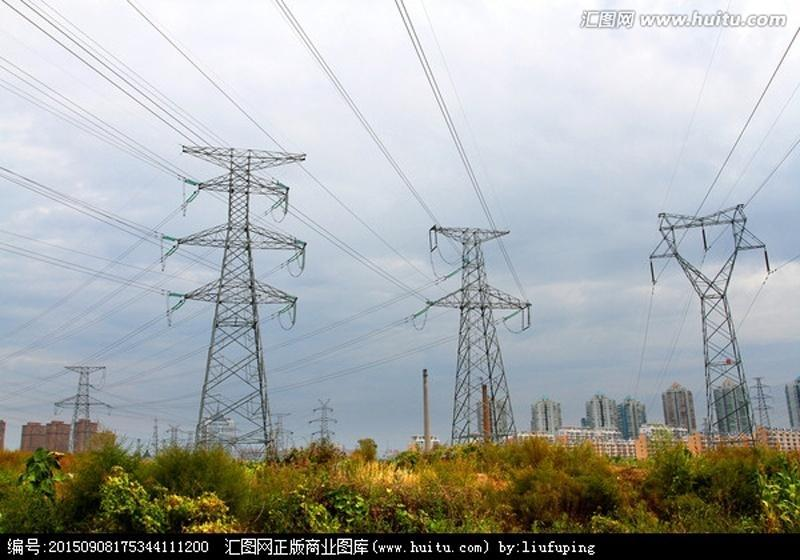power_tower: (161, 145, 307, 465), (648, 204, 782, 447), (414, 224, 532, 448), (54, 364, 116, 457), (746, 370, 778, 432), (309, 395, 340, 445), (268, 412, 293, 452), (166, 422, 181, 448)
